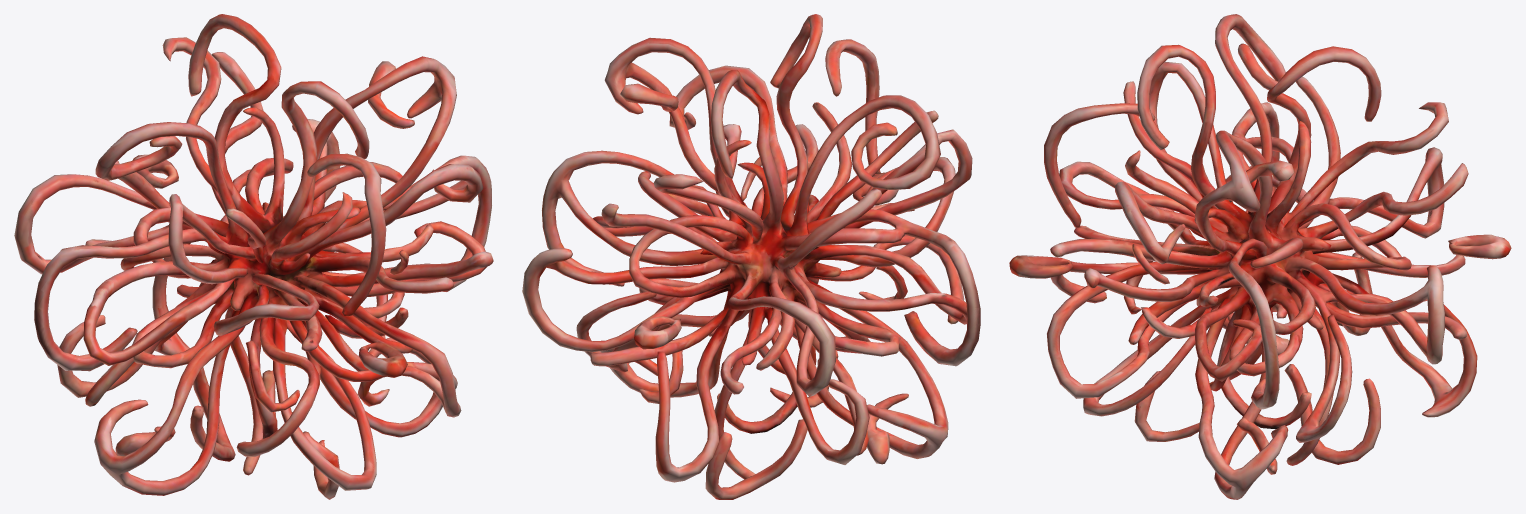
The model's file is Spiral_Bloom_0110003556_texture.glb.
The picture shows the model from 3 angles, left to right: view 1: azimuth 30°, elevation 25°; view 2: azimuth 150°, elevation 25°; view 3: azimuth 270°, elevation 25°; orthographic projection. The views are drawn at different scales.
Bounding box in the file's own units: 1.99 × 1.83 × 1.98.
Materials: 1 (1 with a texture image).
